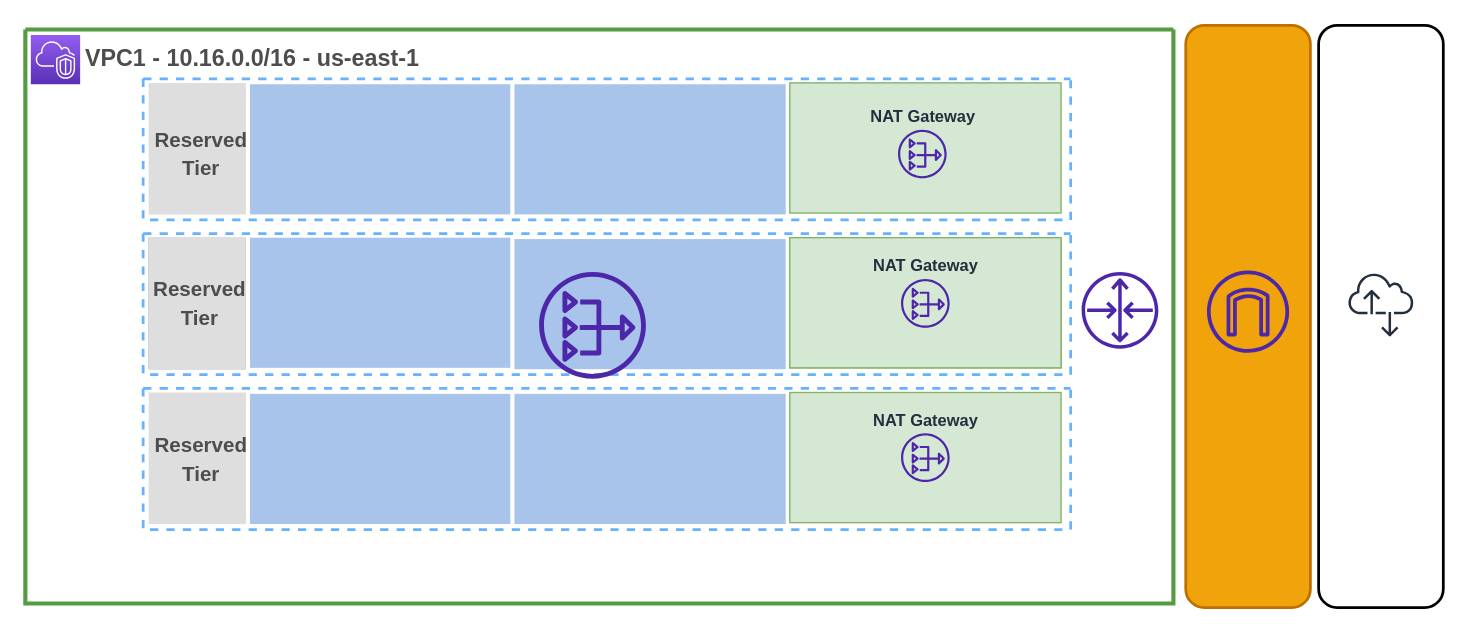
The diagram is 1469 pixels wide and 632 high, and some of its shapes have lost their labels. The shapes that lost their labels are listed below. From the top down, each one's centre as x and y in pixels, then its label:
At point (1247, 311): "Internet Gateway".
At point (1380, 304): "Internet".
